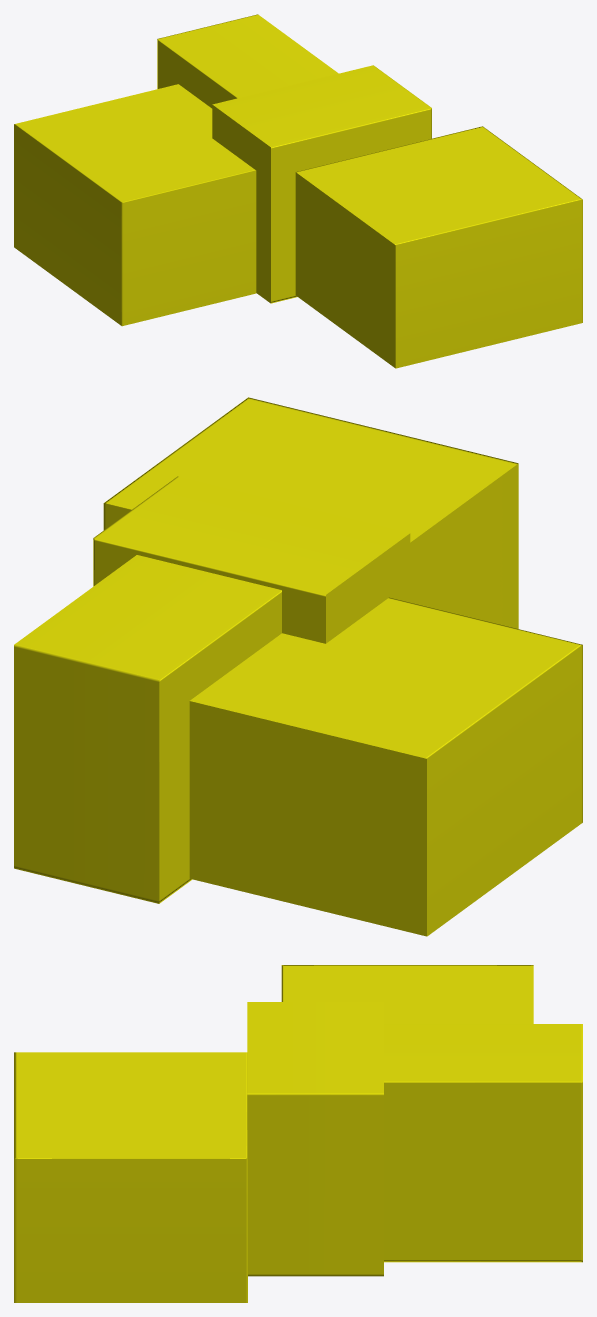
File: Book_Pile_06C_Lod0.fbx
3 renders of one model, top to bottom at view 1: azimuth 30°, elevation 25°; view 2: azimuth 150°, elevation 25°; view 3: azimuth 270°, elevation 25°, orthographic. The views are drawn at different scales.
Visible parts, largest first — view 1: Book_Pile_06C_Lod0; view 2: Book_Pile_06C_Lod0; view 3: Book_Pile_06C_Lod0.
Part boxes in pixels (box(x1,y1,x2,y2)): Book_Pile_06C_Lod0: box(14, 14, 582, 368); Book_Pile_06C_Lod0: box(14, 397, 582, 936); Book_Pile_06C_Lod0: box(14, 965, 582, 1302).
Size of the model in its own units: 62.97 by 27.63 by 76.7.
